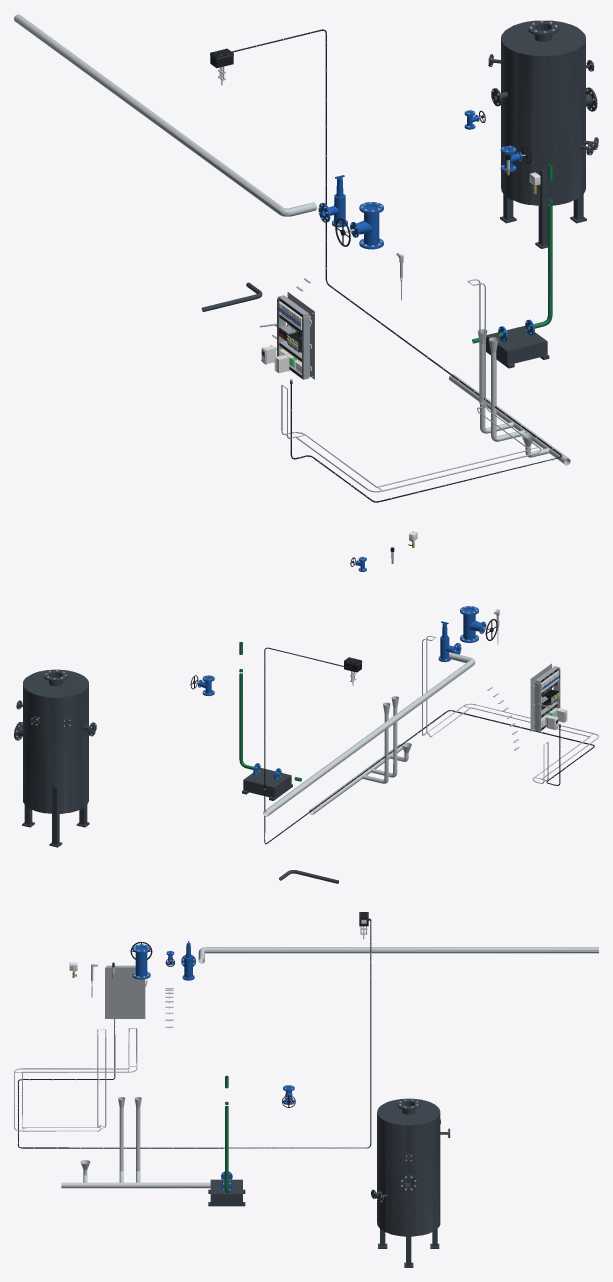
The model's file is s4000-2-BIcbBuA8.glb.
3 renders of one model, top to bottom at view 1: azimuth 30°, elevation 25°; view 2: azimuth 150°, elevation 25°; view 3: azimuth 270°, elevation 25°, orthographic. The views are drawn at different scales.
Parts seen in each view (by area): view 1: separator_bdv60_5 / dark, safety_vent_2 / steel, cabinet_interior / cabinet_interior_0.npz, local_open_drains / steel, cables / zinc, mod_eco_drive_cable / black, pump_branch_1 / dark, steam_manual / blue, pump_branch_1 / green, safety_1 / blue; view 2: separator_bdv60_5 / dark, safety_vent_2 / steel, local_open_drains / steel, cabinet_interior / cabinet_interior_0.npz, mod_eco_drive_cable / black, cables / zinc, pump_branch_1 / dark, steam_manual / blue, pump_branch_1 / green; view 3: separator_bdv60_5 / dark, safety_vent_2 / steel, local_open_drains / steel, cabinet_interior / cabinet_interior_0.npz, cables / zinc, mod_eco_drive_cable / black, pump_branch_1 / dark, steam_manual / blue.
Part boxes in pixels (x1=…): separator_bdv60_5 / dark: x1=488, y1=20, x2=598, y2=248; safety_vent_2 / steel: x1=14, y1=14, x2=316, y2=216; cabinet_interior / cabinet_interior_0.npz: x1=260, y1=292, x2=314, y2=379; local_open_drains / steel: x1=449, y1=329, x2=570, y2=465; cables / zinc: x1=281, y1=279, x2=541, y2=492; mod_eco_drive_cable / black: x1=231, y1=29, x2=561, y2=502; pump_branch_1 / dark: x1=486, y1=326, x2=549, y2=368; steam_manual / blue: x1=350, y1=202, x2=383, y2=249; pump_branch_1 / green: x1=472, y1=163, x2=552, y2=343; safety_1 / blue: x1=318, y1=175, x2=347, y2=227; separator_bdv60_5 / dark: x1=14, y1=669, x2=96, y2=847; safety_vent_2 / steel: x1=263, y1=652, x2=475, y2=816; local_open_drains / steel: x1=309, y1=696, x2=411, y2=814; cabinet_interior / cabinet_interior_0.npz: x1=530, y1=663, x2=560, y2=731; mod_eco_drive_cable / black: x1=264, y1=647, x2=594, y2=844; cables / zinc: x1=422, y1=635, x2=598, y2=783; pump_branch_1 / dark: x1=242, y1=768, x2=292, y2=800; steam_manual / blue: x1=460, y1=606, x2=486, y2=642; pump_branch_1 / green: x1=239, y1=642, x2=301, y2=781; separator_bdv60_5 / dark: x1=371, y1=1098, x2=449, y2=1267; safety_vent_2 / steel: x1=198, y1=947, x2=598, y2=963; local_open_drains / steel: x1=61, y1=1097, x2=210, y2=1188; cabinet_interior / cabinet_interior_0.npz: x1=105, y1=965, x2=147, y2=1018; cables / zinc: x1=14, y1=1028, x2=137, y2=1131; mod_eco_drive_cable / black: x1=18, y1=919, x2=371, y2=1148; pump_branch_1 / dark: x1=208, y1=1179, x2=245, y2=1206; steam_manual / blue: x1=132, y1=944, x2=150, y2=979.
Size of the model in its own units: 5.31 by 3.03 by 7.07.
